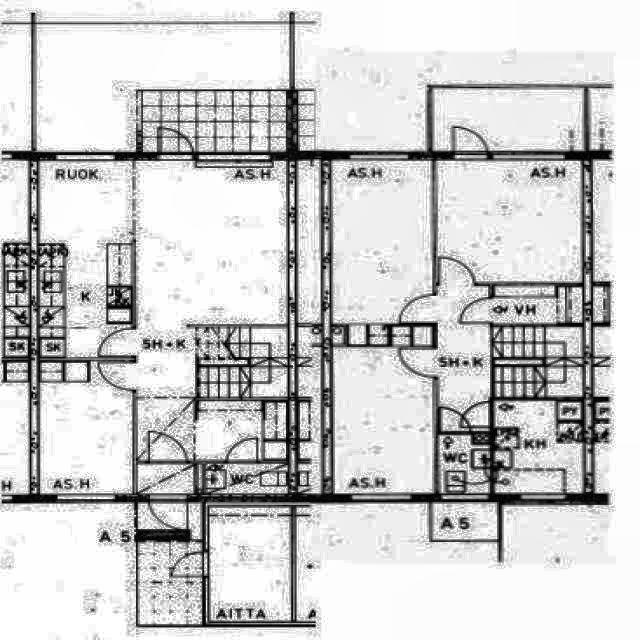room: (136, 161, 288, 397), (38, 160, 133, 356), (436, 160, 582, 283), (40, 362, 133, 494), (432, 88, 584, 151), (209, 506, 291, 622), (493, 400, 583, 493), (437, 285, 490, 433), (199, 400, 262, 460), (136, 400, 193, 461), (438, 434, 490, 494), (206, 463, 287, 494), (137, 464, 194, 494)
